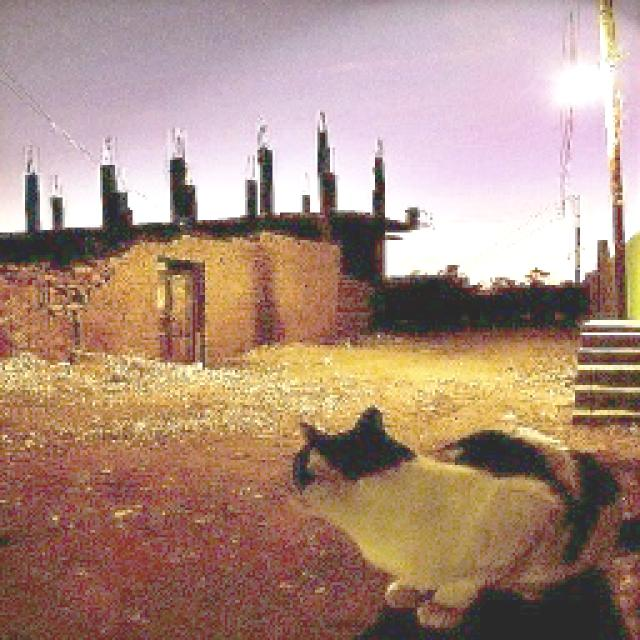cat: (283, 406, 617, 628)
